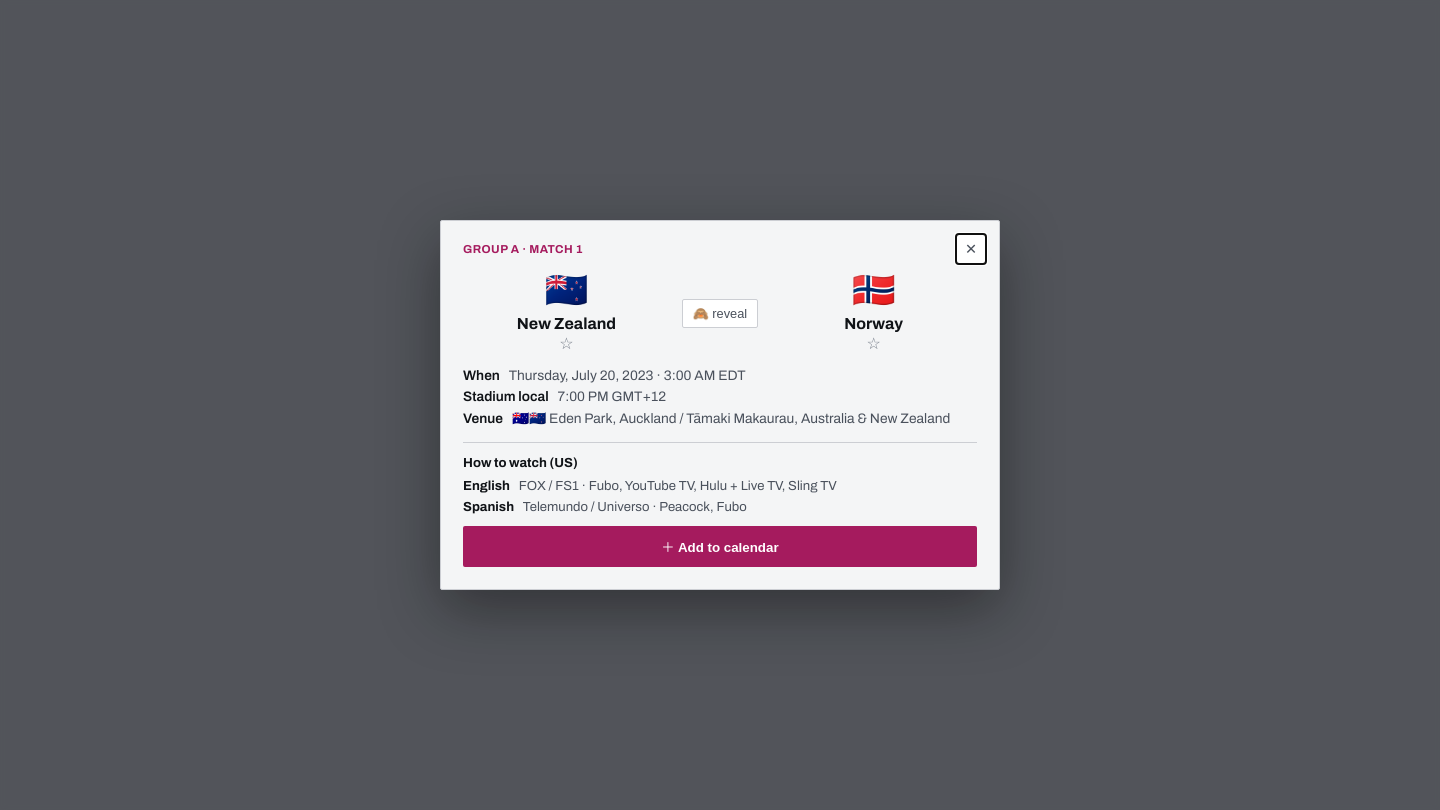
MatchDetail spoiler reveal › hides the score behind a reveal button and reveals on click
The width and height of the screenshot is (1440, 810).
Expected: the text "Match events" is not shown
Click the button "🙈 reveal". click: (720, 314)
box: [682,299,758,328]
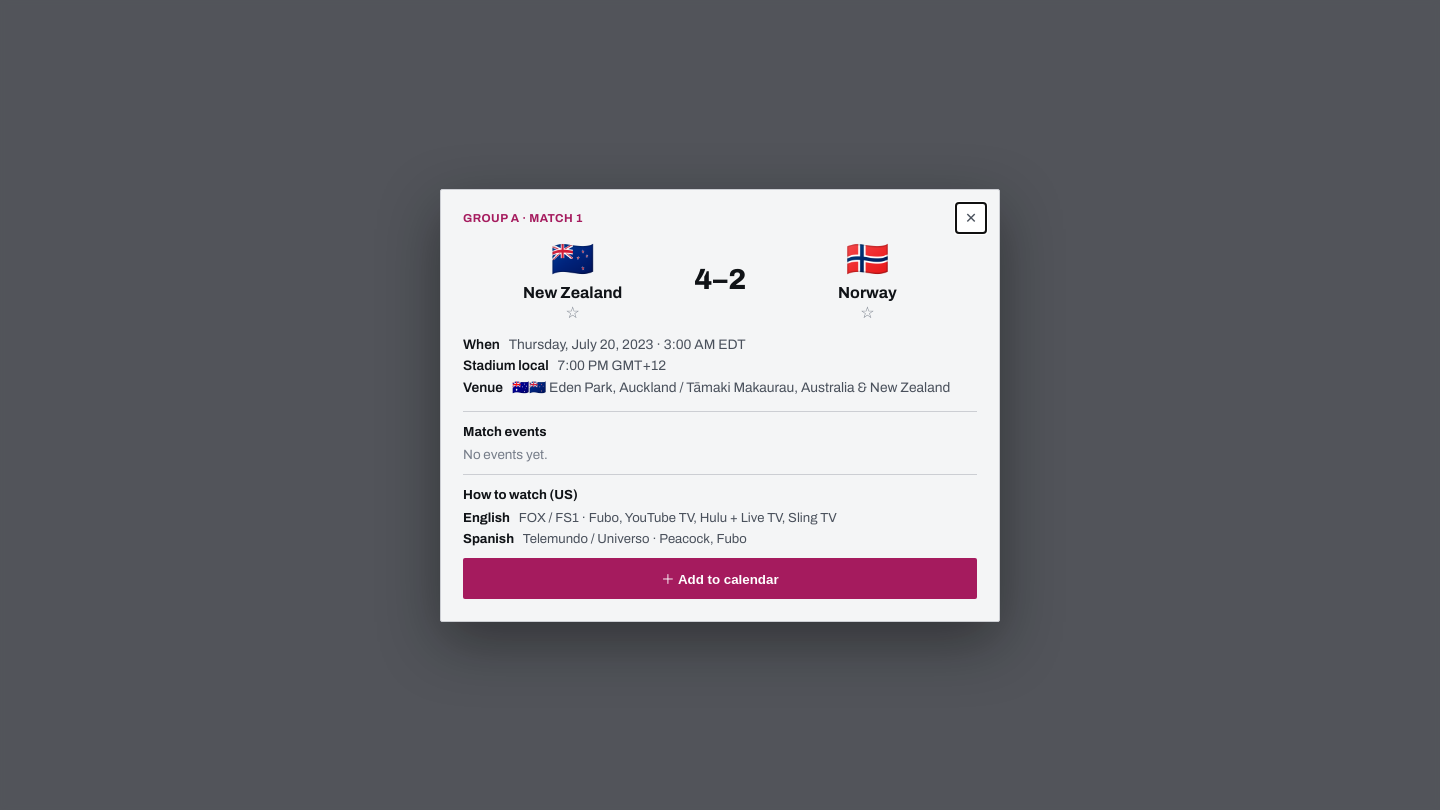
Expected: the text "4–2" is shown, [694,264,746,294]
Expected: the heading "Match events" is shown, [463,424,547,438]
